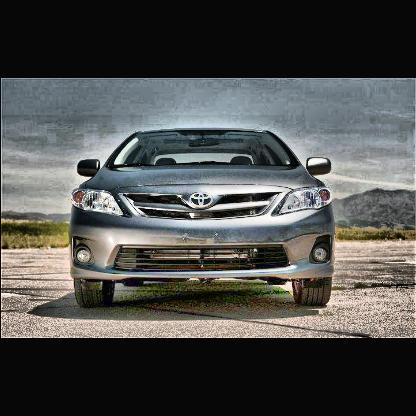Toyota Corolla Sedan 2012: (69, 127, 338, 311)
